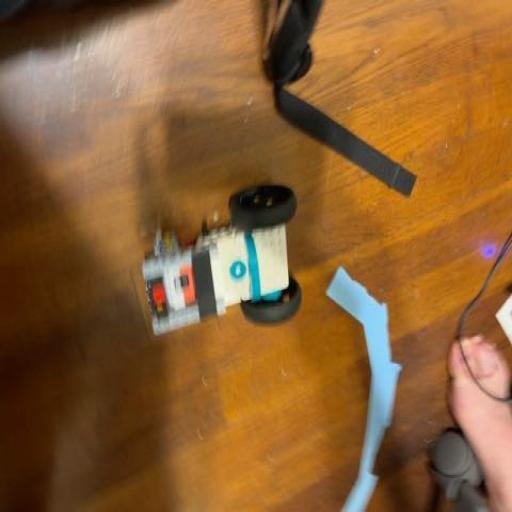Opponent: (142, 176, 303, 344)
